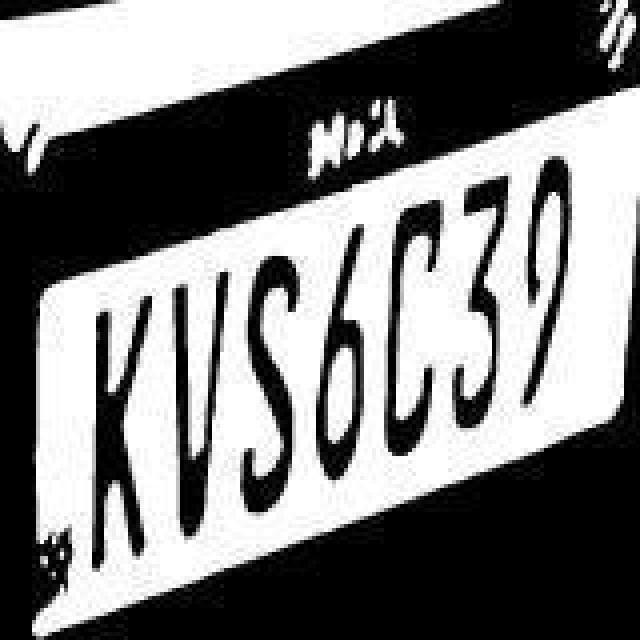3: (458, 162, 518, 430)
6: (320, 216, 384, 488)
9: (520, 148, 592, 412)
C: (386, 182, 462, 458)
K: (88, 290, 160, 566)
S: (246, 242, 314, 510)
V: (168, 258, 232, 534)
